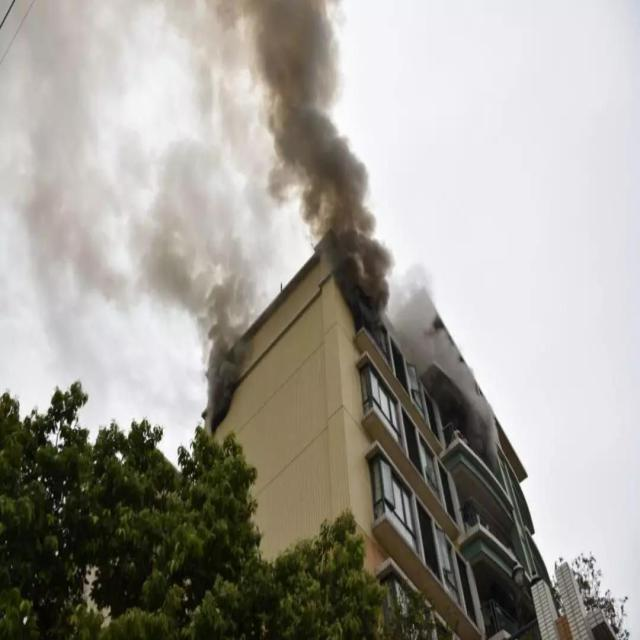Smoke: (10, 0, 390, 320)
